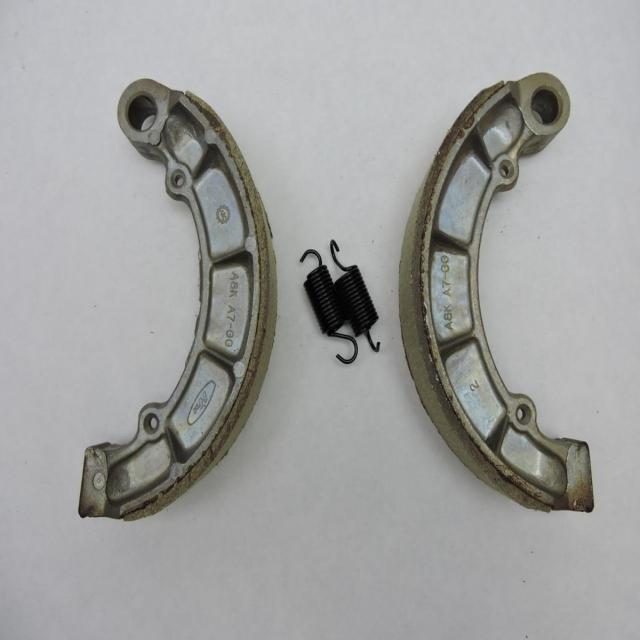brake_pad: (397, 55, 602, 541), (77, 68, 284, 534)
